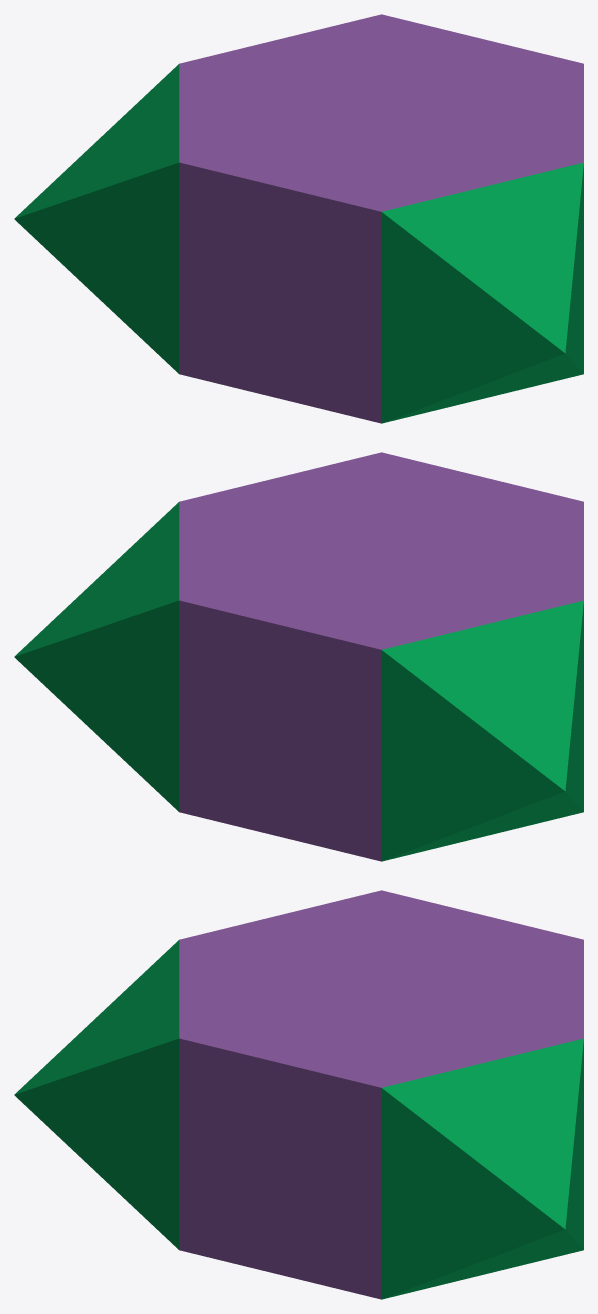
Rendered from J57.PrismaHexagonalTriaumentado.gltf.
3 renders of one model, top to bottom at view 1: azimuth 30°, elevation 25°; view 2: azimuth 150°, elevation 25°; view 3: azimuth 270°, elevation 25°, orthographic.
Visible parts, largest first — view 1: J57.PrismaHexagonalTriaumentado; view 2: J57.PrismaHexagonalTriaumentado; view 3: J57.PrismaHexagonalTriaumentado.
Part boxes in pixels (x1,y1,x2,y2): J57.PrismaHexagonalTriaumentado: (14, 14, 583, 423); J57.PrismaHexagonalTriaumentado: (14, 452, 583, 861); J57.PrismaHexagonalTriaumentado: (14, 890, 583, 1299).
Size of the model in its own units: 17.32 by 6.36 by 15.51.
